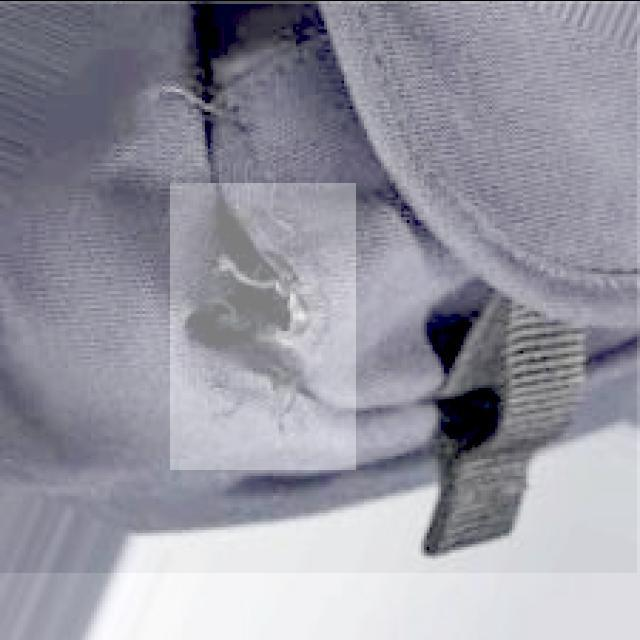Damage-bag: (170, 184, 356, 472)
